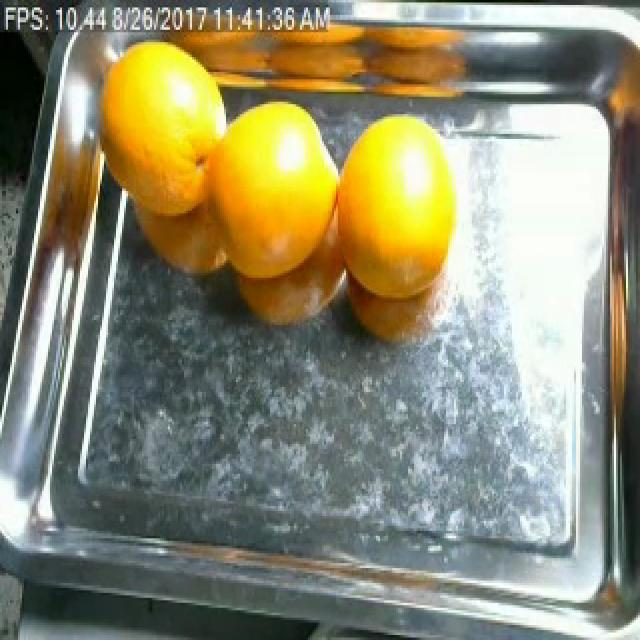Fruit: (324, 96, 476, 292)
